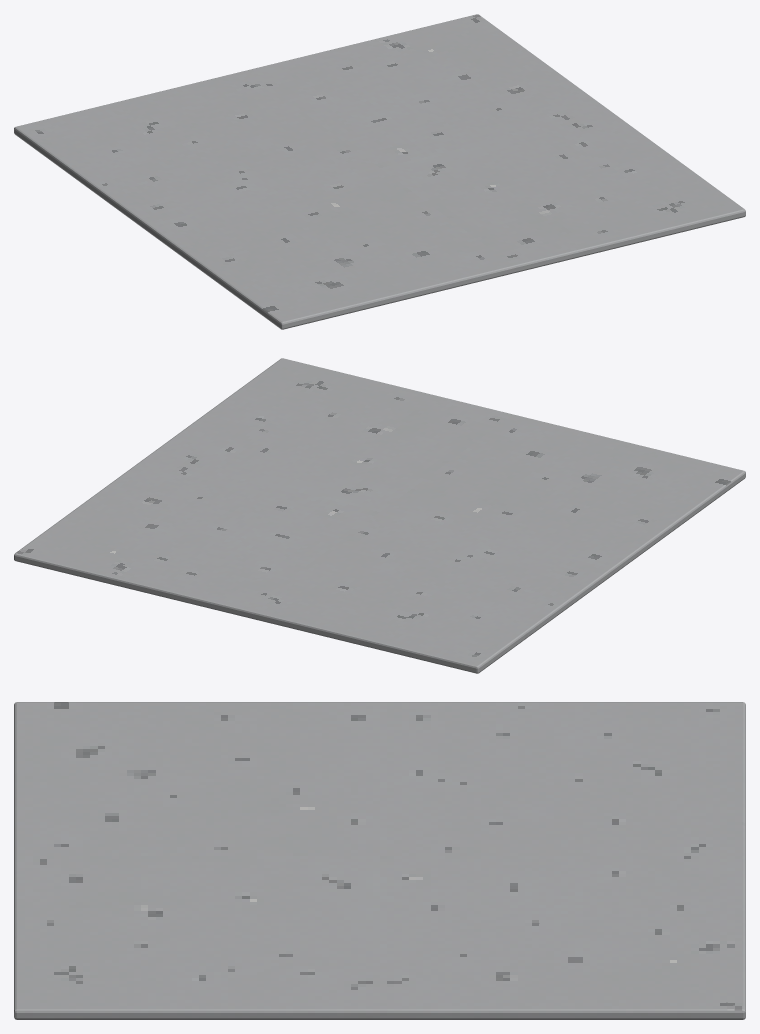
The model's file is lbd_ceiling_light_insert.glb.
3 renders of one model, top to bottom at view 1: azimuth 30°, elevation 25°; view 2: azimuth 150°, elevation 25°; view 3: azimuth 270°, elevation 25°, orthographic. The views are drawn at different scales.
Visible parts, largest first — view 1: ceiling_light_insert__panel_003; view 2: ceiling_light_insert__panel_003; view 3: ceiling_light_insert__panel_003.
Part boxes in pixels (bbox=[...]): ceiling_light_insert__panel_003: bbox=[14, 14, 745, 329]; ceiling_light_insert__panel_003: bbox=[14, 358, 745, 673]; ceiling_light_insert__panel_003: bbox=[14, 702, 745, 1019].
Size of the model in its own units: 1.58 by 0.12 by 1.58.
Materials: 4 (3 with a texture image).
